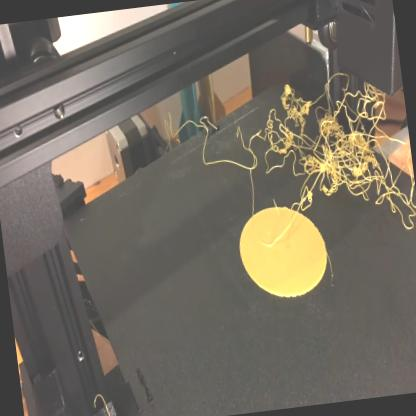fail: (249, 59, 416, 226)
